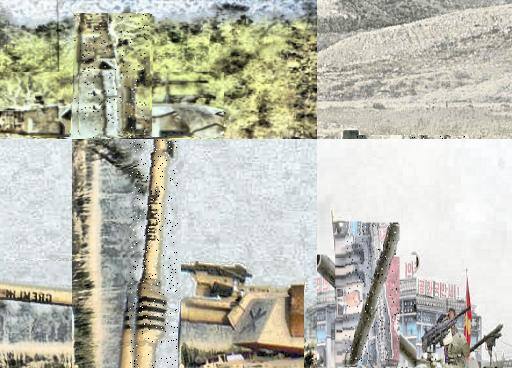tanks: (131, 140, 179, 368), (76, 14, 150, 139), (348, 225, 400, 367), (408, 316, 497, 368), (72, 325, 77, 368)
